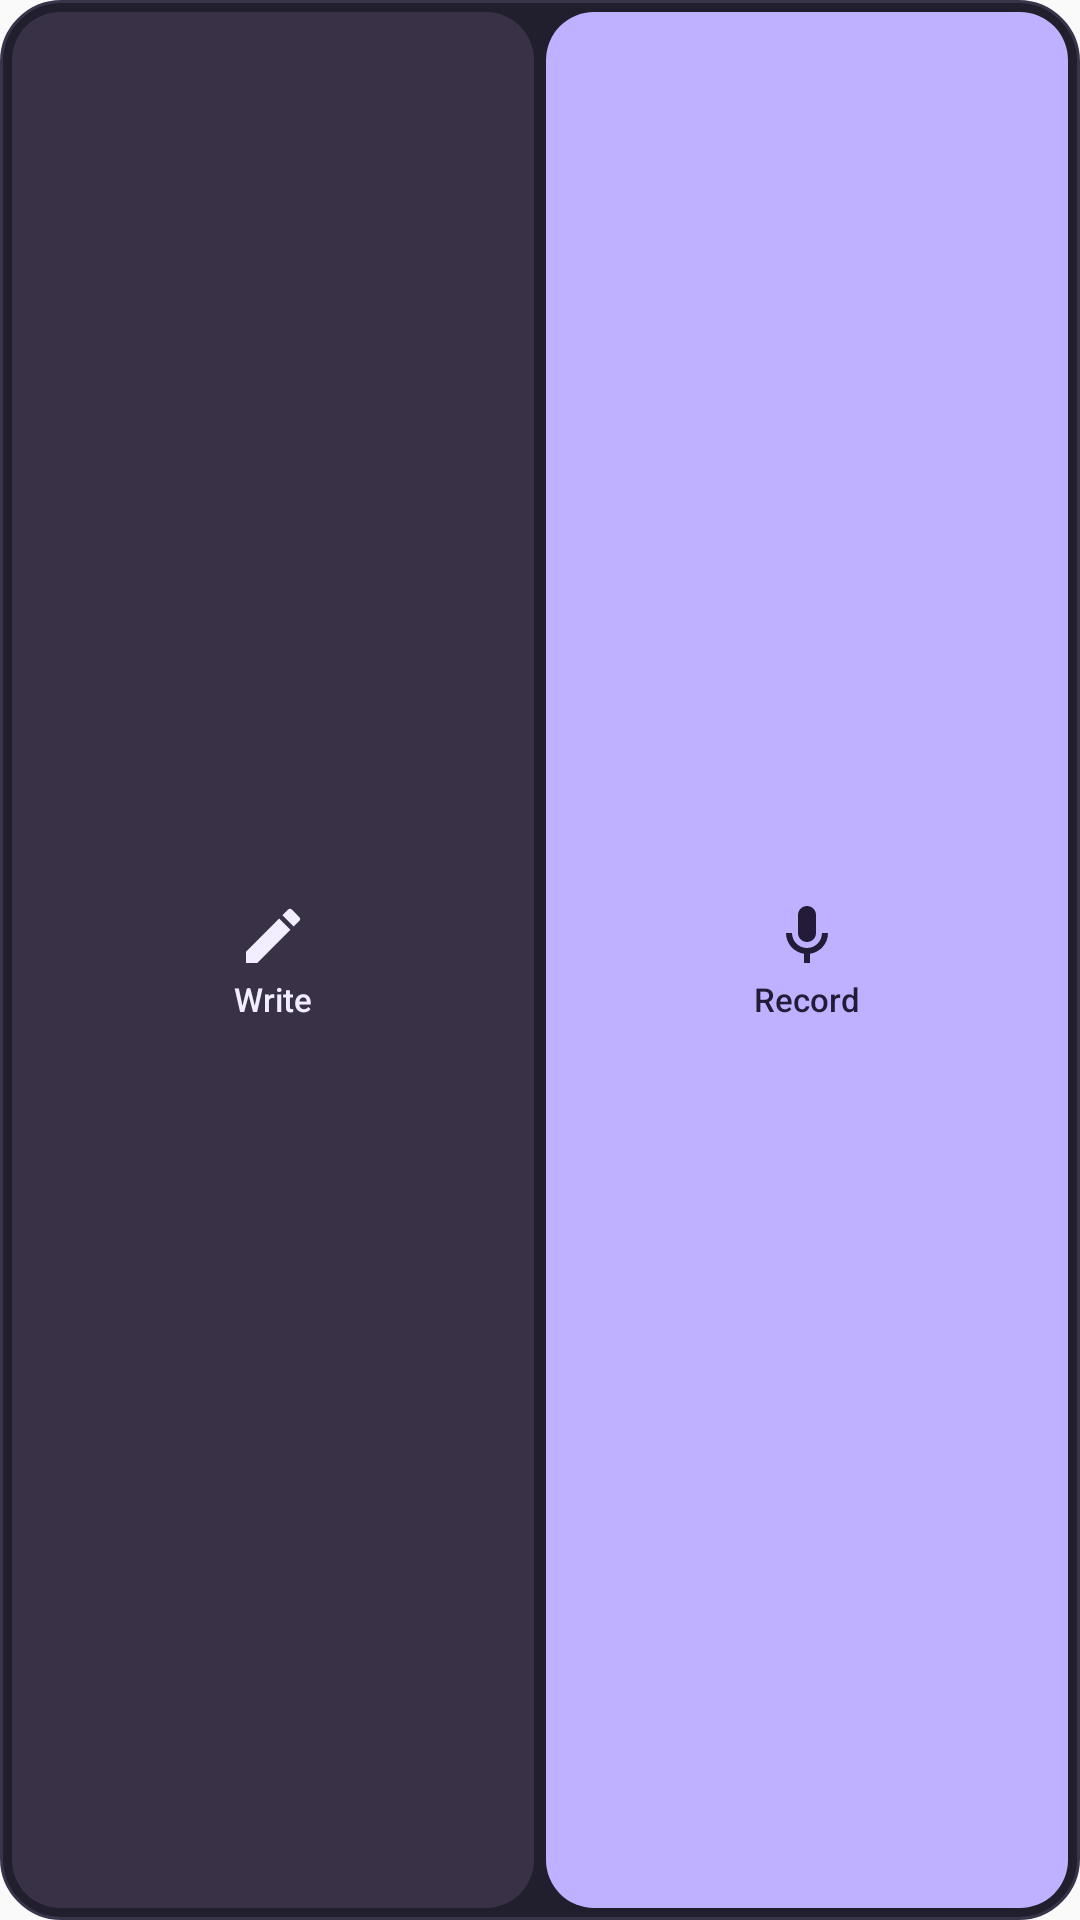

Where to tap for icons on this 1080px x 1920px app screen, as (x=x, y=y):
widget mic: (x=807, y=934)
widget note: (x=273, y=935)
